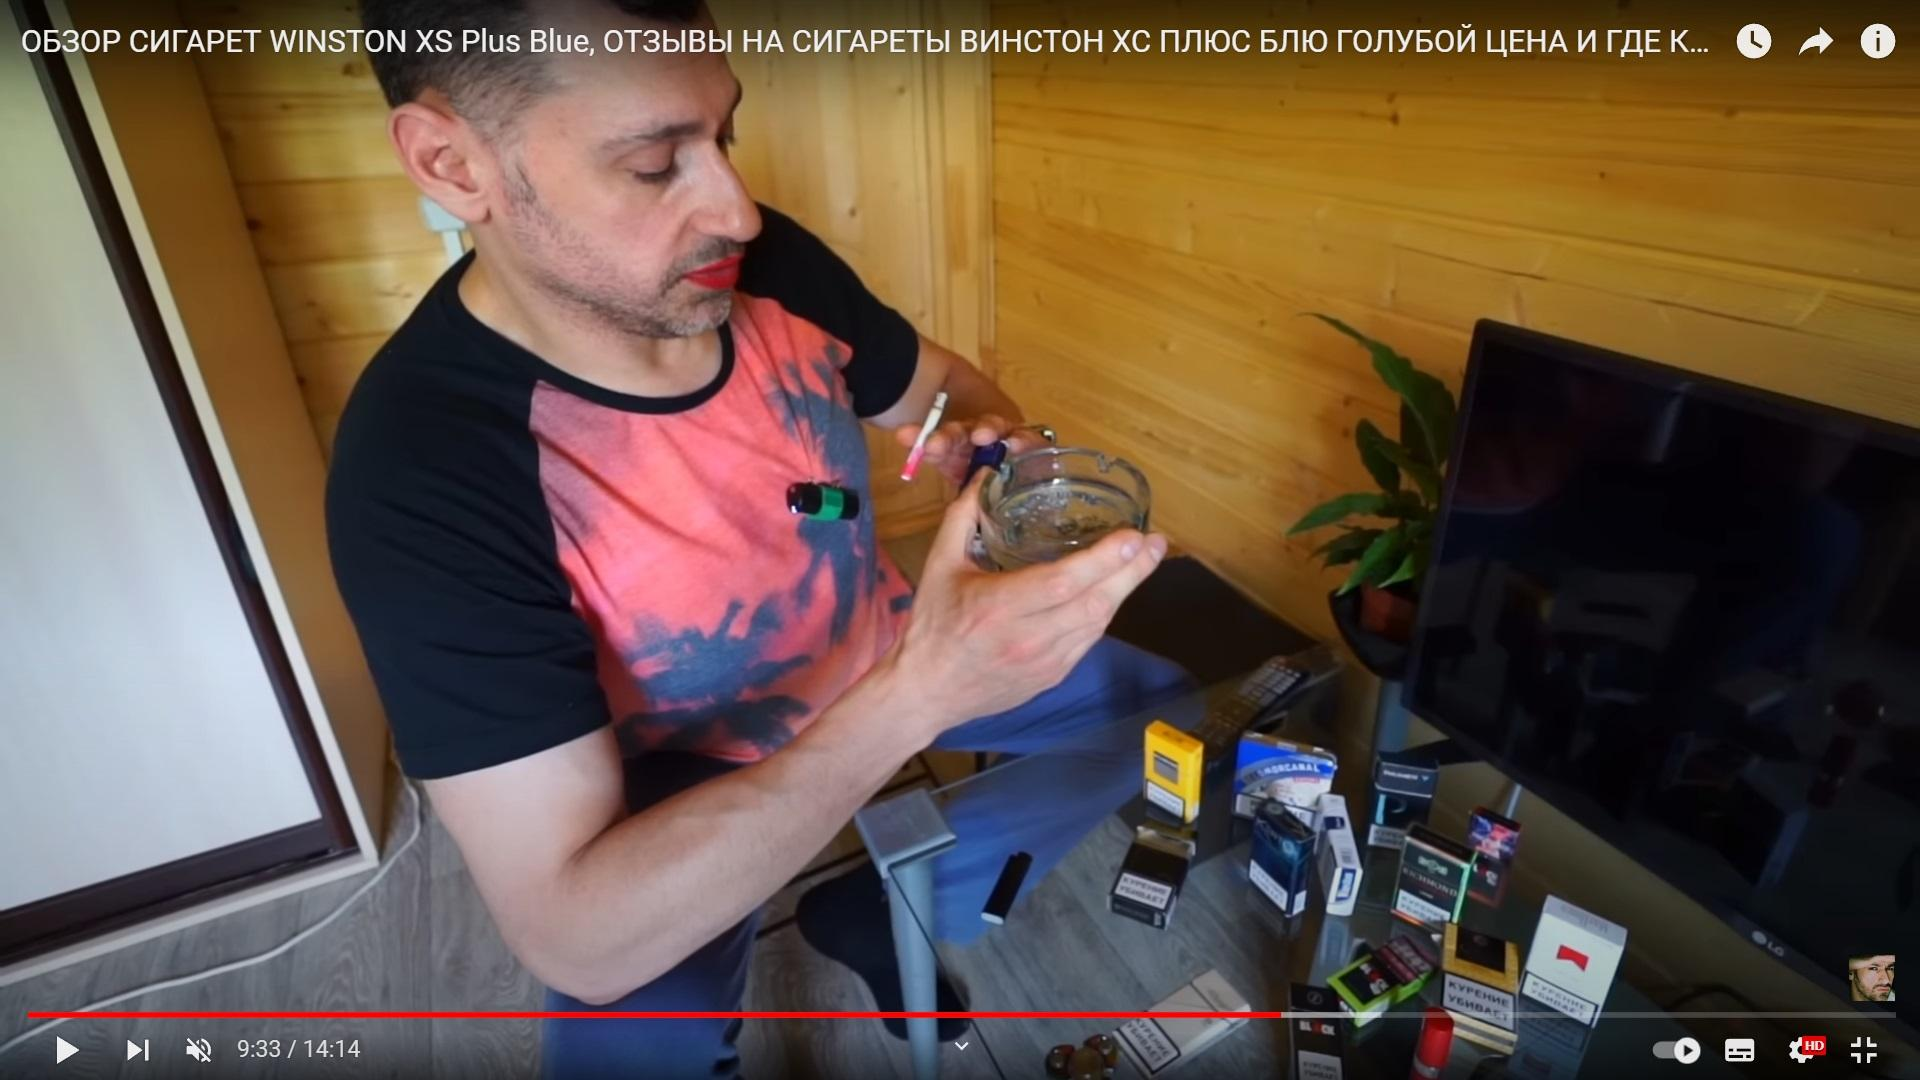cigarette: (901, 392, 948, 481)
